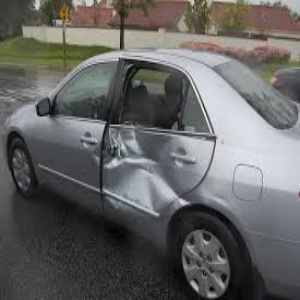door: (62, 126, 193, 209)
